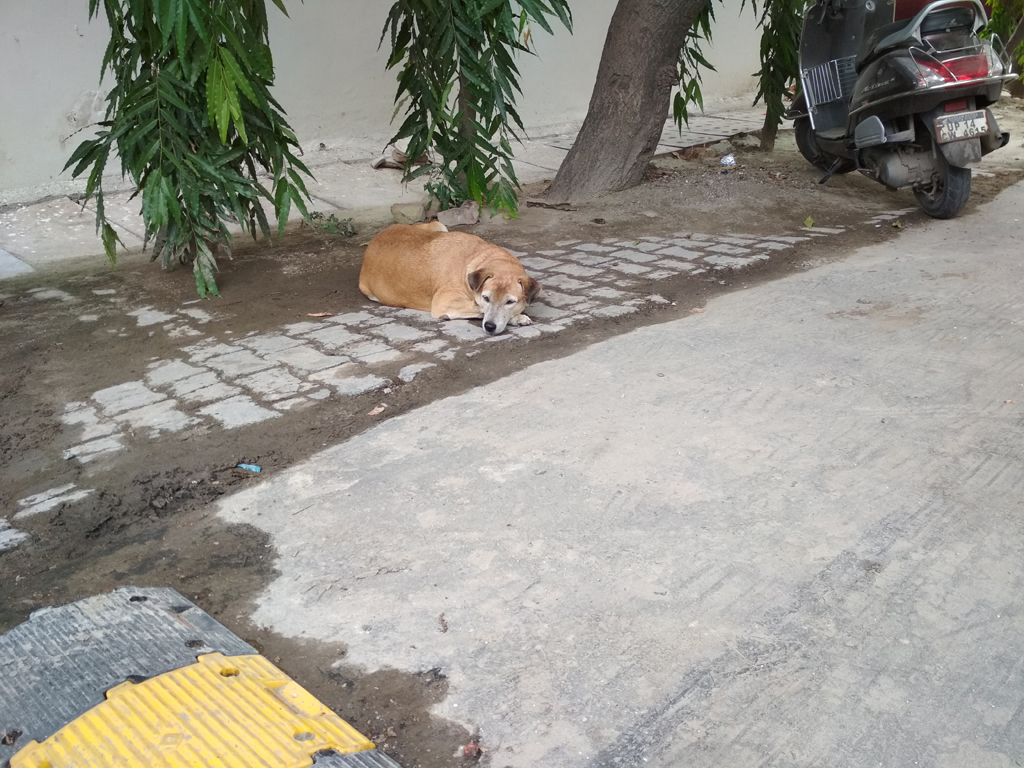dog: (358, 220, 542, 334)
